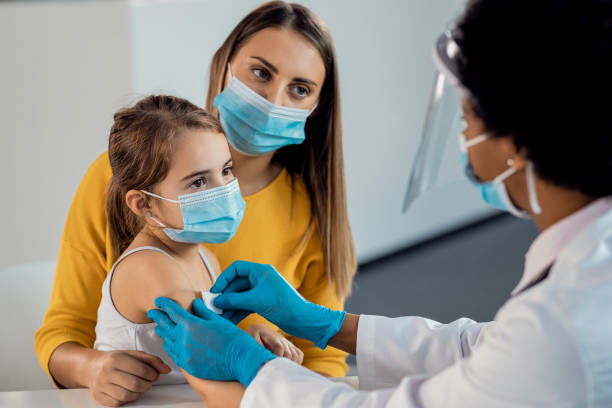with mask: (113, 111, 244, 245), (221, 19, 320, 151), (443, 94, 542, 226)
